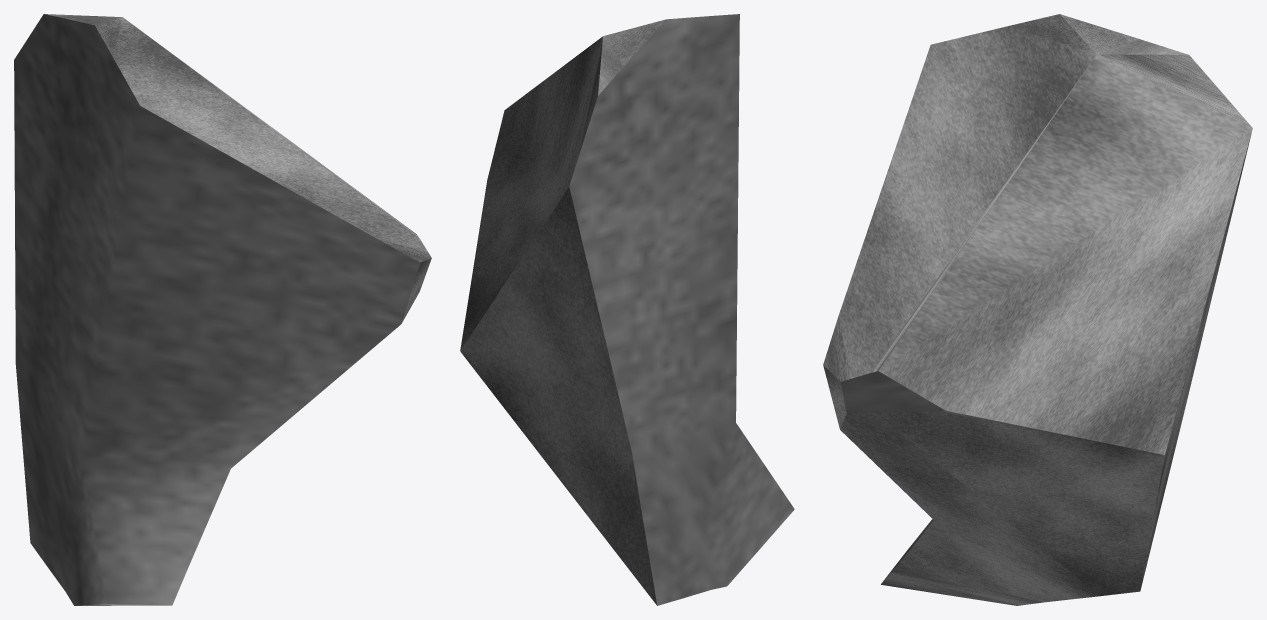
Rendered from leg_3_cell_011.fbx.
3 views of the same model, side by side, from view 1: azimuth 30°, elevation 25°; view 2: azimuth 150°, elevation 25°; view 3: azimuth 270°, elevation 25° (orthographic). The views are drawn at different scales.
Parts seen in each view (by area): view 1: leg_3_cell.011; view 2: leg_3_cell.011; view 3: leg_3_cell.011.
Part boxes in pixels (left/top/right/bottom): leg_3_cell.011: left=14, top=14, right=431, bottom=605; leg_3_cell.011: left=460, top=14, right=794, bottom=605; leg_3_cell.011: left=823, top=14, right=1252, bottom=605.
Size of the model in its own units: 27.69 by 49.82 by 31.62.
